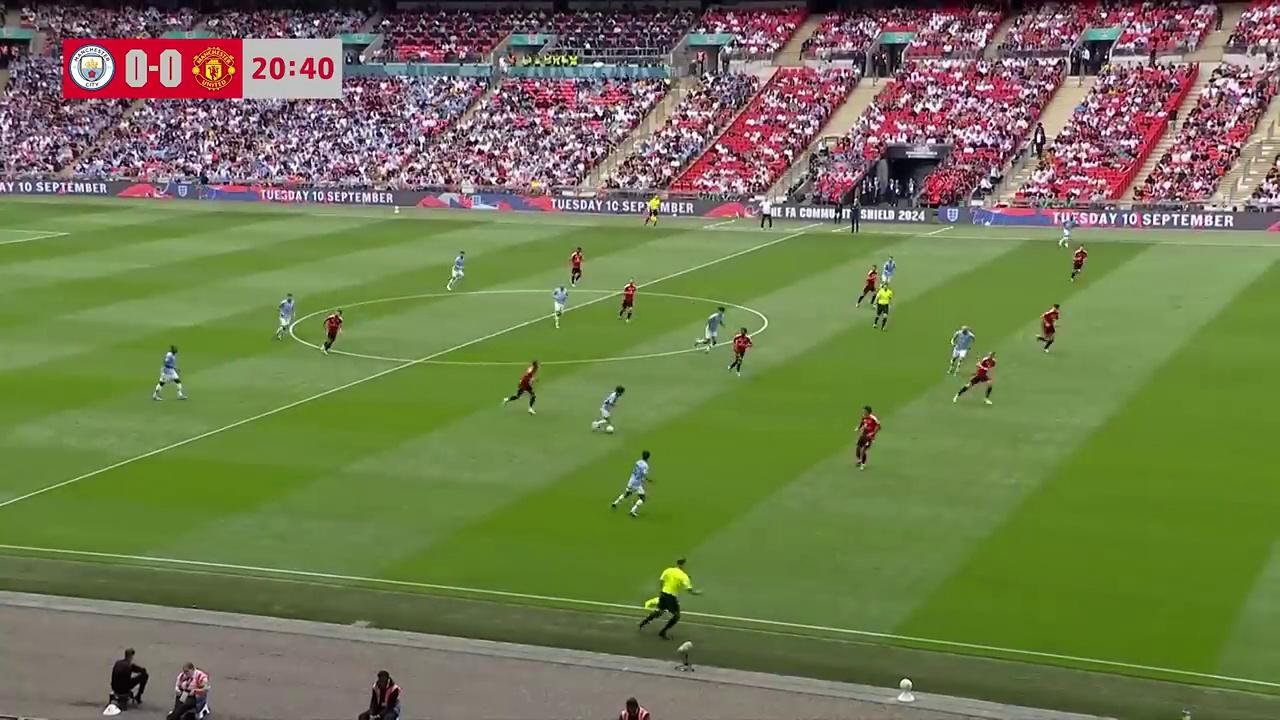ball: (606, 423, 615, 434)
player: (609, 451, 652, 516), (954, 351, 995, 405), (151, 344, 187, 401), (502, 361, 539, 415), (854, 405, 880, 470), (591, 385, 624, 432), (946, 325, 975, 376), (727, 326, 752, 376), (1037, 303, 1060, 352), (274, 293, 297, 341), (700, 307, 725, 351), (855, 265, 880, 307), (617, 279, 637, 321), (323, 309, 342, 353), (446, 250, 465, 289), (552, 283, 568, 328), (878, 254, 896, 290), (1070, 245, 1087, 282), (1057, 212, 1073, 248)
referee: (636, 556, 696, 639), (872, 281, 893, 329), (644, 194, 659, 227)
